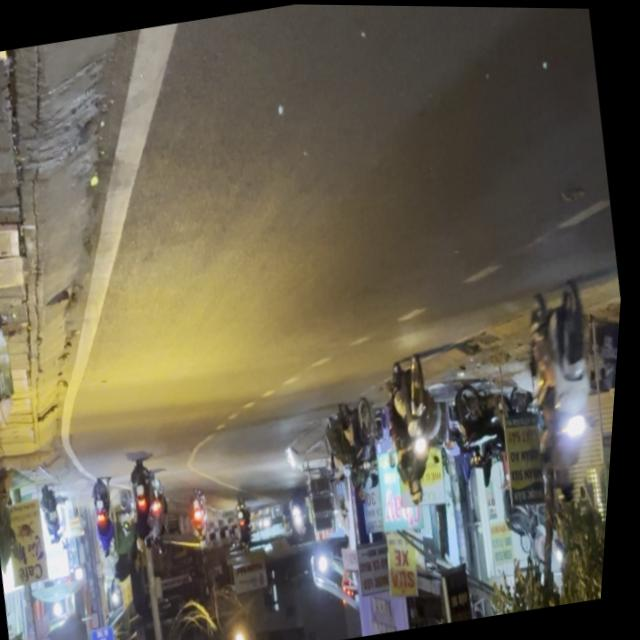helmet: (415, 479, 434, 505)
licenseplate: (511, 274, 626, 507), (379, 349, 463, 509)
